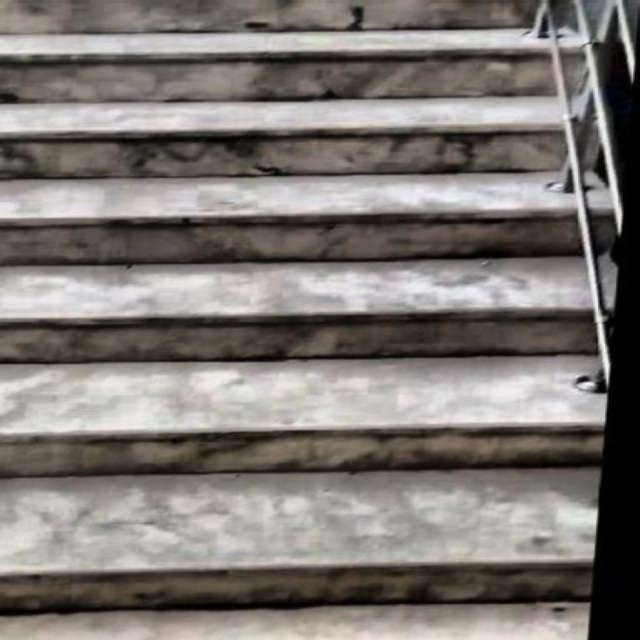stair: (2, 0, 618, 602)
